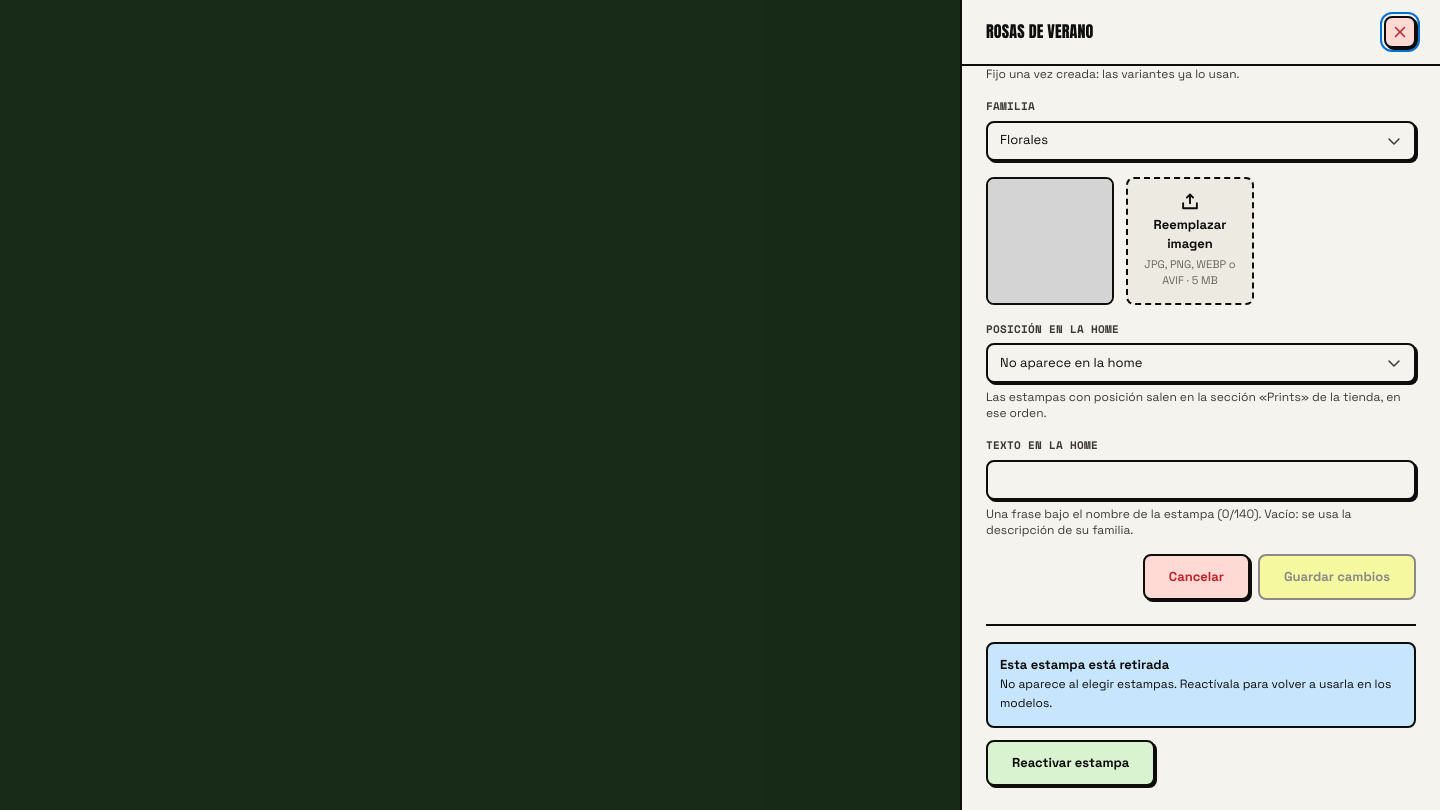
Scenario: PrintSlideOver › reactivar con la familia retirada muestra el 409 del API junto al botón
(page scrolled)
Click the button "Reactivar estampa". click: (1071, 763)
box: [986,740,1155,786]
(page scrolled)
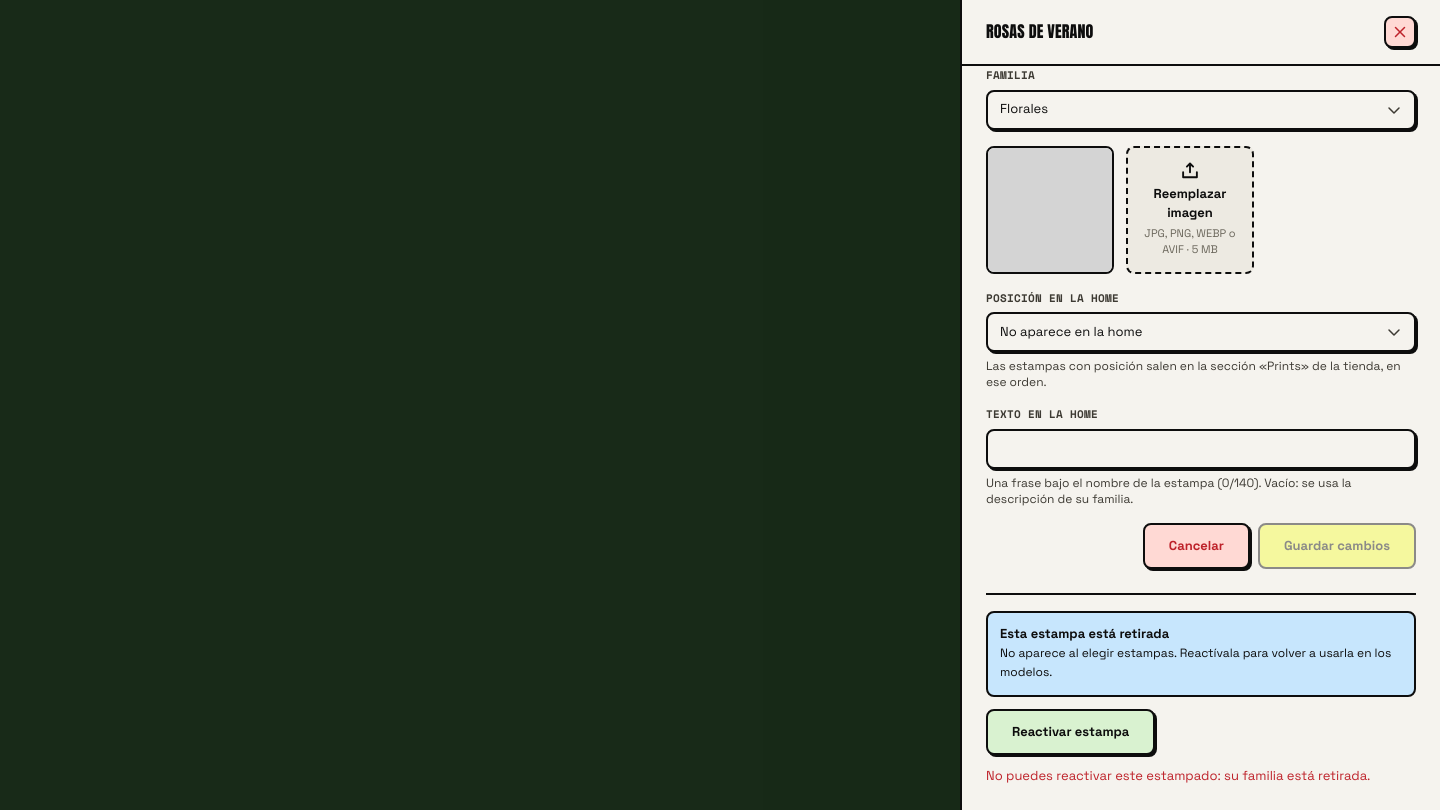
expect the message "No puedes reactivar este estampado: su familia está retirada." is shown: met, box [986,767,1416,786]
